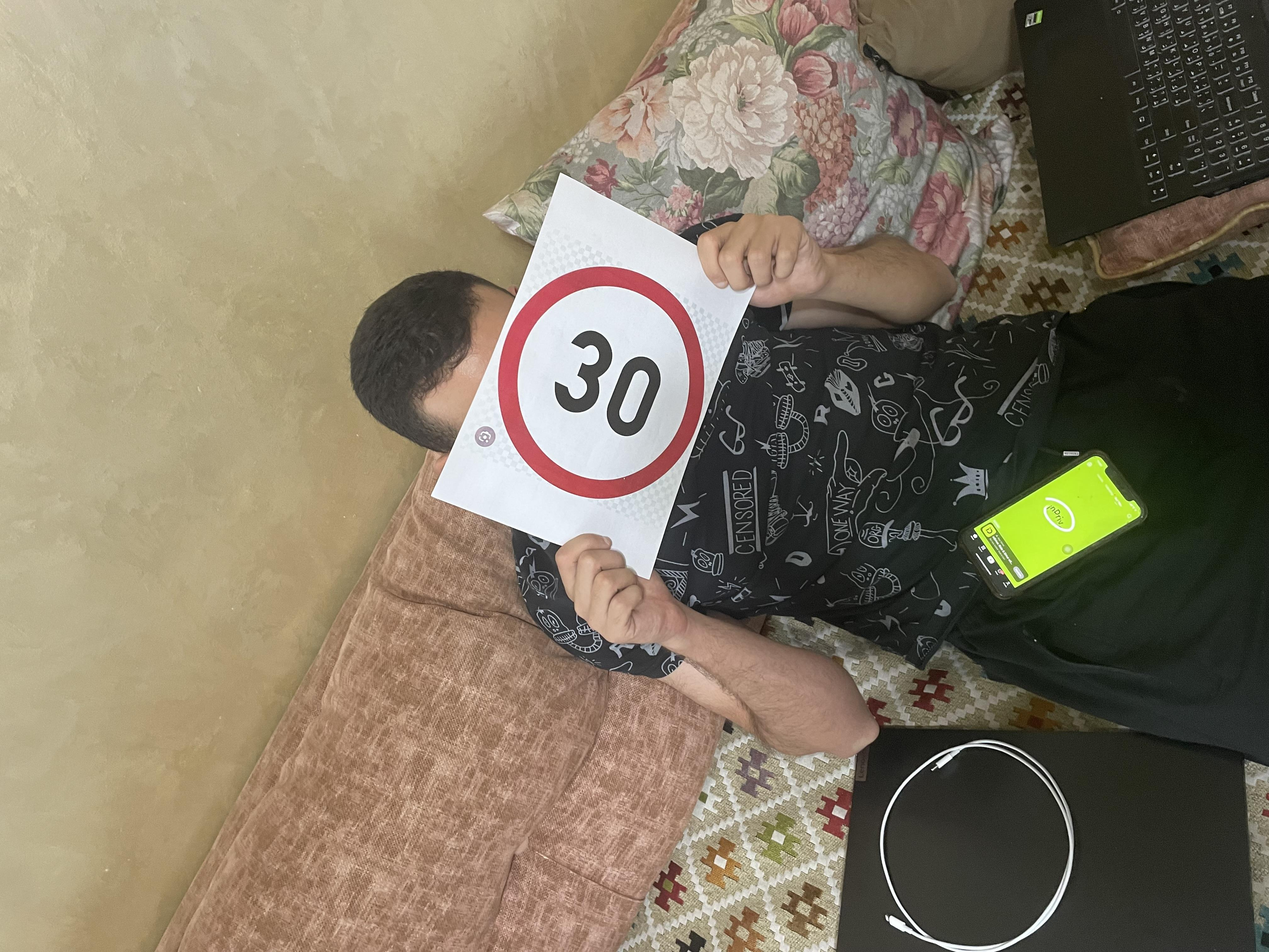30-speed: (501, 258, 706, 504)
